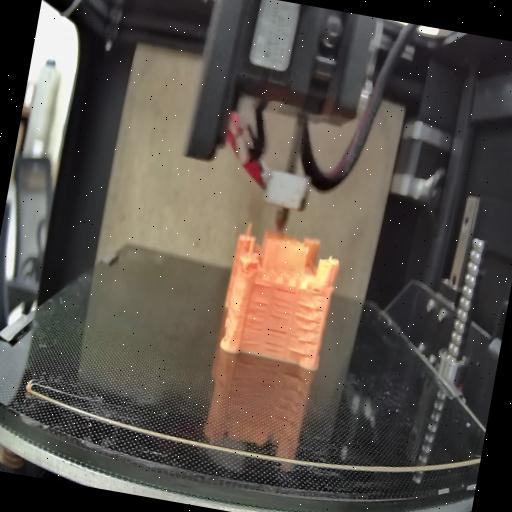cracks: (287, 301, 323, 357), (238, 296, 268, 349), (265, 286, 297, 334), (262, 336, 284, 354), (252, 278, 271, 290)
